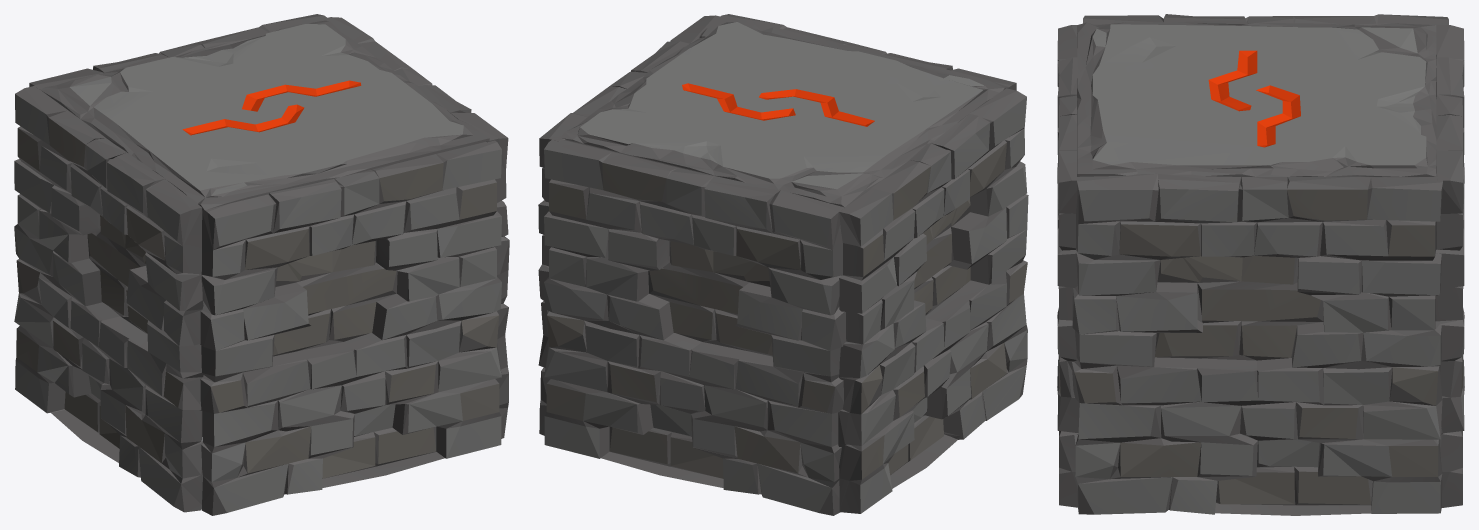
The model's file is SM_Env_Tiles_B_03.glb.
3 renders of one model, left to right at view 1: azimuth 30°, elevation 25°; view 2: azimuth 150°, elevation 25°; view 3: azimuth 270°, elevation 25°, orthographic. The views are drawn at different scales.
Visible parts, largest first — view 1: SM_Env_Tiles_B_03; view 2: SM_Env_Tiles_B_03; view 3: SM_Env_Tiles_B_03.
Boxes of the visible parts, <box> form: SM_Env_Tiles_B_03: <box>14,14,509,515</box>; SM_Env_Tiles_B_03: <box>538,14,1028,515</box>; SM_Env_Tiles_B_03: <box>1057,14,1464,515</box>.
Bounding box in the file's own units: 5.74 × 5.2 × 5.68.
1 material, 1 textured.
